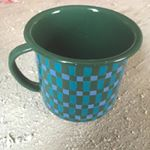cups: (6, 3, 147, 124)
